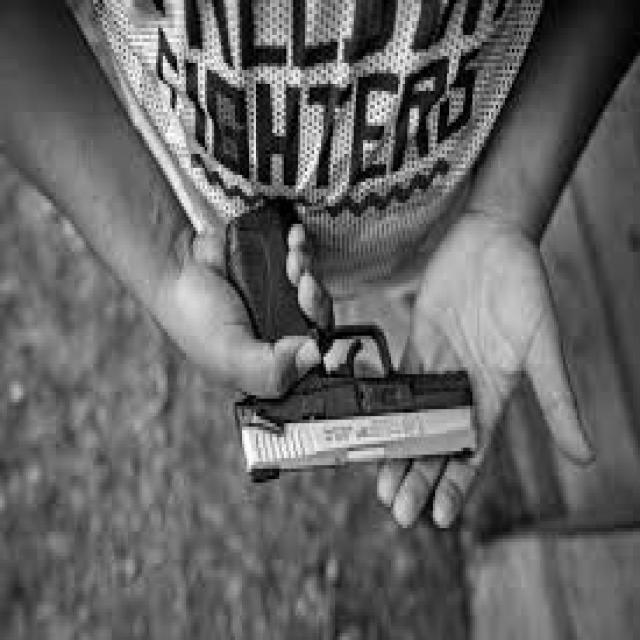handgun: (227, 196, 478, 470)
